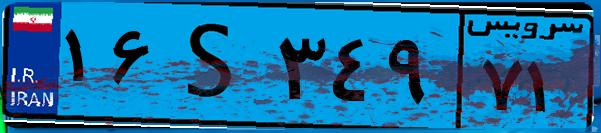1: (57, 26, 110, 100), (525, 38, 570, 115)
3: (270, 28, 330, 110)
4: (330, 28, 385, 110)
6: (110, 28, 158, 98)
7: (475, 38, 525, 113)
9: (385, 28, 445, 110)
S: (158, 12, 270, 120)
